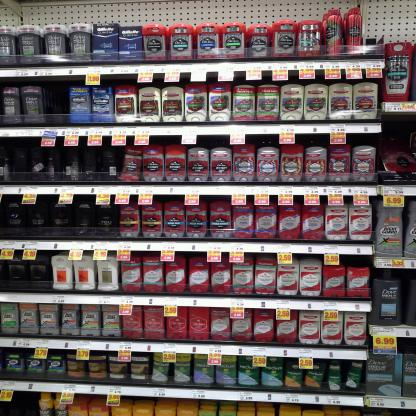Void: (364, 4, 412, 42), (9, 256, 47, 290), (382, 114, 416, 151), (43, 80, 70, 118), (4, 391, 35, 413)
